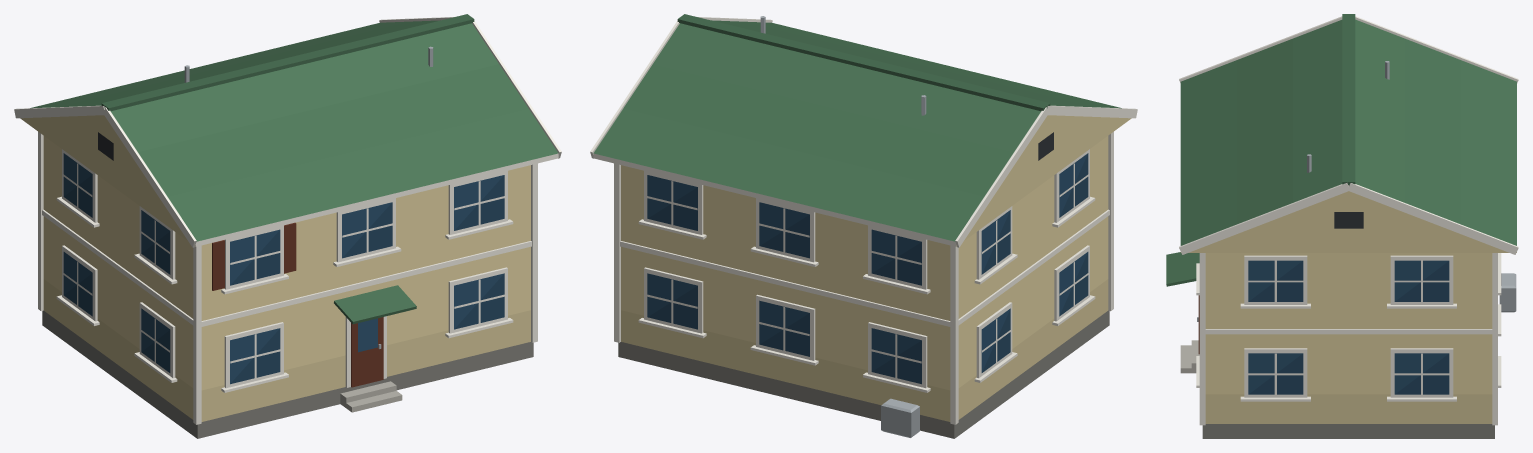
File: house_10x8_2f.glb
3 renders of one model, left to right at view 1: azimuth 30°, elevation 25°; view 2: azimuth 150°, elevation 25°; view 3: azimuth 270°, elevation 25°, orthographic. The views are drawn at different scales.
Visible parts, largest first — view 1: house; view 2: house; view 3: house.
Boxes of the visible parts, box(x1,y1,x2,y2) form: house: box(14, 14, 561, 438); house: box(590, 14, 1137, 438); house: box(1166, 14, 1518, 438).
Size of the model in its own units: 10.93 by 7.96 by 9.64.
